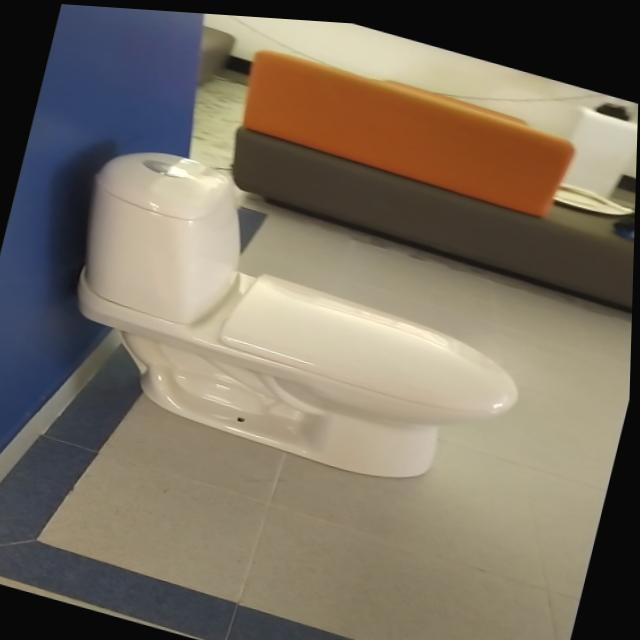toilet: (43, 129, 555, 507)
